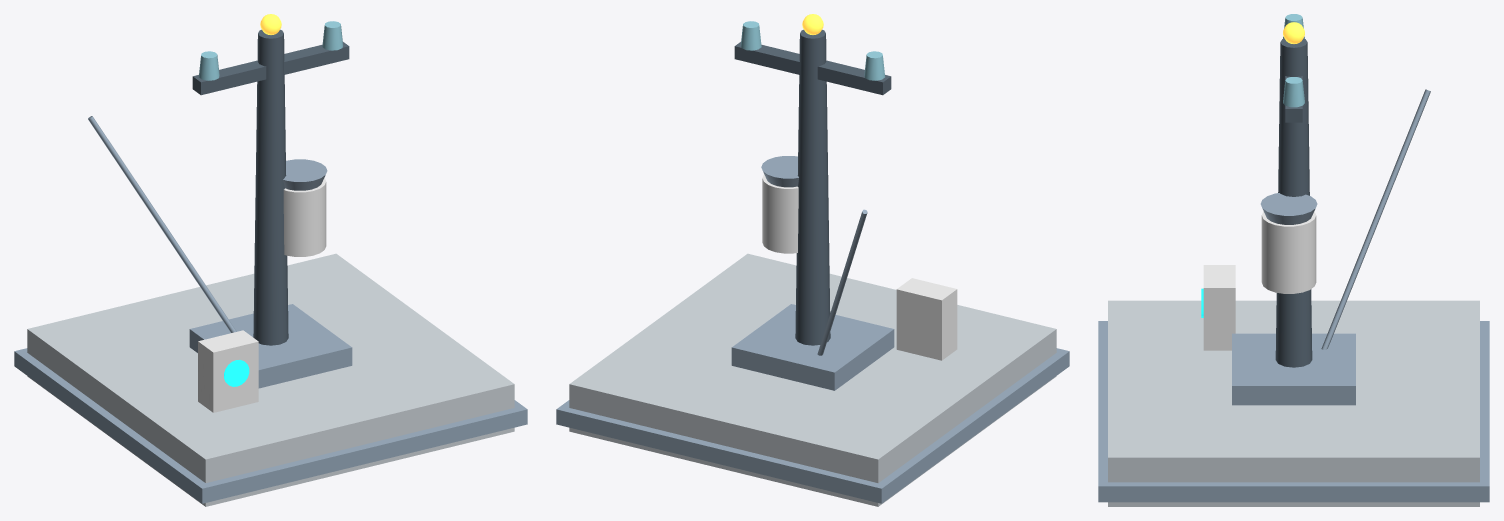
File: power_plant_t1.glb
The picture shows the model from 3 angles, left to right: view 1: azimuth 30°, elevation 25°; view 2: azimuth 150°, elevation 25°; view 3: azimuth 270°, elevation 25°; orthographic projection. The views are drawn at different scales.
Parts seen in each view (by area): view 1: pad, pad_edge, pole, pole_footing, meter_box, transformer_can, crossarm_0, guy_wire, can_cap; view 2: pad, pad_edge, pole, pole_footing, meter_box, crossarm_0, transformer_can, can_cap, guy_wire; view 3: pad, pad_edge, pole_footing, pole, transformer_can, meter_box, guy_wire, can_cap, insulator_0_2.
Boxes of the visible parts, box(x1,y1,x2,y2) form: pad: box(27, 253, 514, 506); pad_edge: box(14, 348, 527, 503); pole: box(253, 29, 288, 345); pole_footing: box(189, 304, 352, 388); meter_box: box(198, 330, 258, 412); transformer_can: box(283, 178, 326, 256); crossarm_0: box(192, 42, 349, 95); guy_wire: box(88, 116, 236, 332); can_cap: box(282, 159, 327, 190); pad: box(569, 253, 1056, 506); pad_edge: box(556, 348, 1069, 503); pole: box(795, 29, 830, 345); pole_footing: box(731, 304, 894, 390); meter_box: box(896, 278, 957, 360); crossarm_0: box(734, 42, 891, 95); transformer_can: box(762, 174, 798, 253); can_cap: box(761, 156, 798, 187); guy_wire: box(817, 209, 867, 355); pad: box(1108, 300, 1479, 506); pad_edge: box(1098, 321, 1489, 502); pole_footing: box(1232, 333, 1355, 405); pole: box(1275, 38, 1312, 367); transformer_can: box(1261, 211, 1316, 293); meter_box: box(1203, 265, 1235, 350); guy_wire: box(1321, 89, 1430, 349); can_cap: box(1260, 193, 1317, 224); insulator_0_2: box(1283, 77, 1304, 107).
Bounding box in the file's own units: 1.58 × 1.81 × 1.58.
